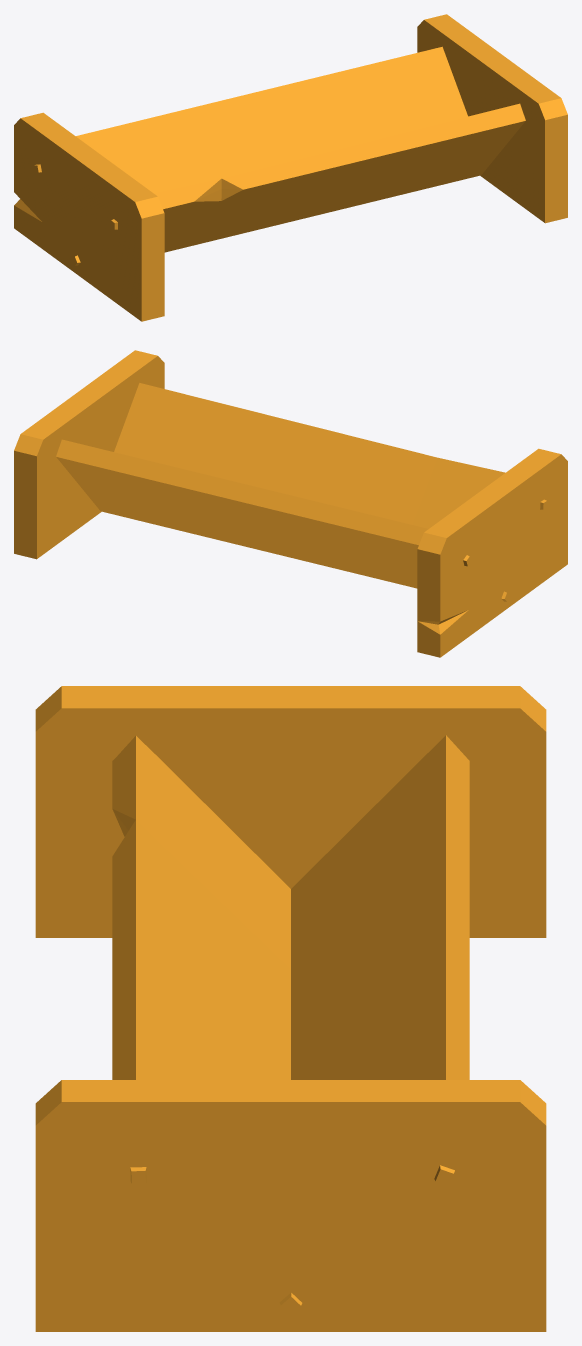
File: SM_Trough_B.fbx
3 renders of one model, top to bottom at view 1: azimuth 30°, elevation 25°; view 2: azimuth 150°, elevation 25°; view 3: azimuth 270°, elevation 25°, orthographic. The views are drawn at different scales.
Visible parts, largest first — view 1: trough-b; view 2: trough-b; view 3: trough-b.
Part boxes in pixels (left/top/right/bottom): trough-b: left=14, top=14, right=567, bottom=321; trough-b: left=14, top=350, right=567, bottom=657; trough-b: left=35, top=686, right=546, bottom=1331.
Bounding box in the file's own units: 1.3 × 0.3301 × 0.665.
